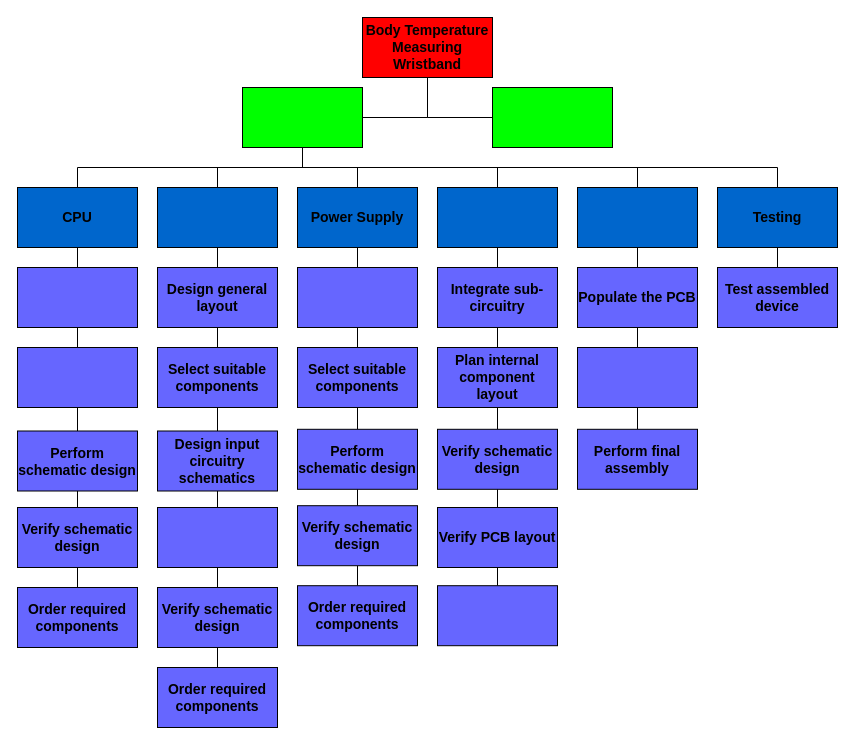
The diagram is 855 pixels wide and 745 high, and some of its shapes have lost their labels. The centre of each missing label's shape, as x and y in pixels:
Assemble front panel: (637,377)
Constructoin and assembly: (637,217)
Design display circuitry schematics: (217,537)
Front Panel: (217,217)
Hardware: (302,117)
PCB: (497,217)
Perform design calculations: (357,297)
Plan integration with other hardware: (77,377)
Select suitable CPU and related components: (77,297)
Send PCB for manufacturing: (497,615)
Software: (552,117)
